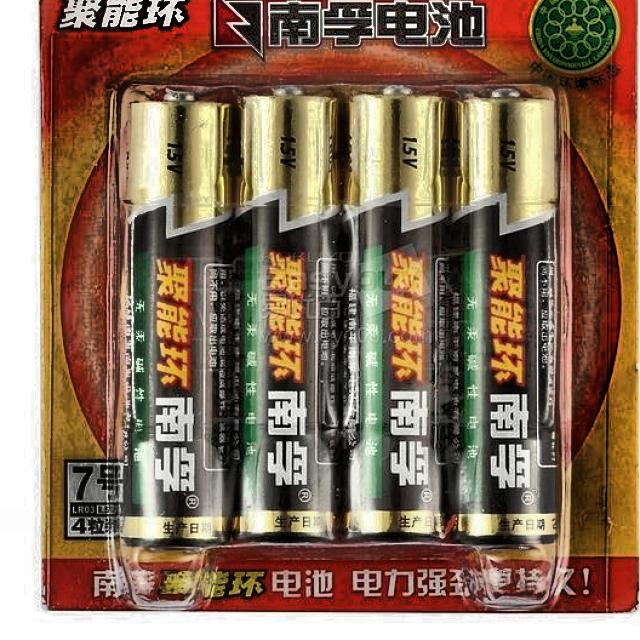Non-Valuable Waste - Batteries: (115, 84, 566, 557)
